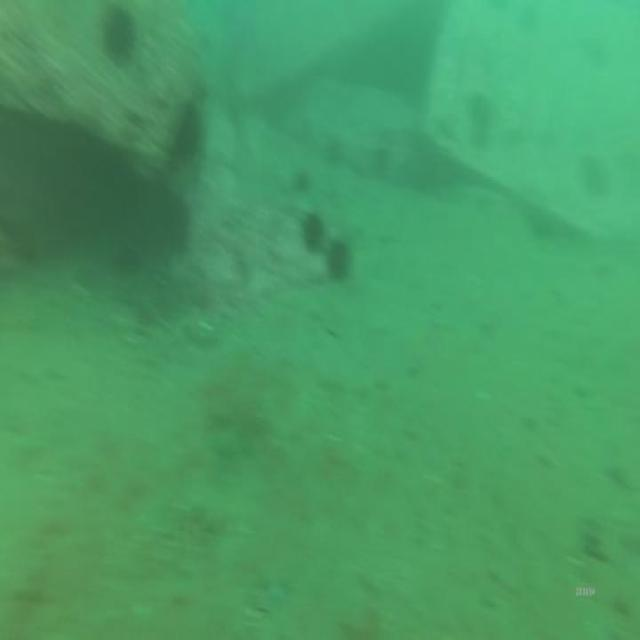echinus: (100, 2, 140, 71), (322, 228, 353, 289), (299, 207, 327, 253)
